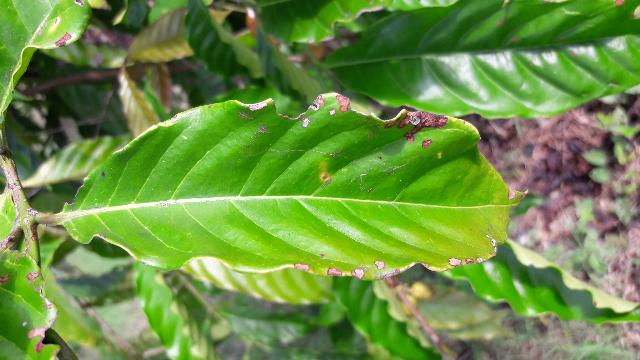rust_level_1: (52, 95, 527, 282)
